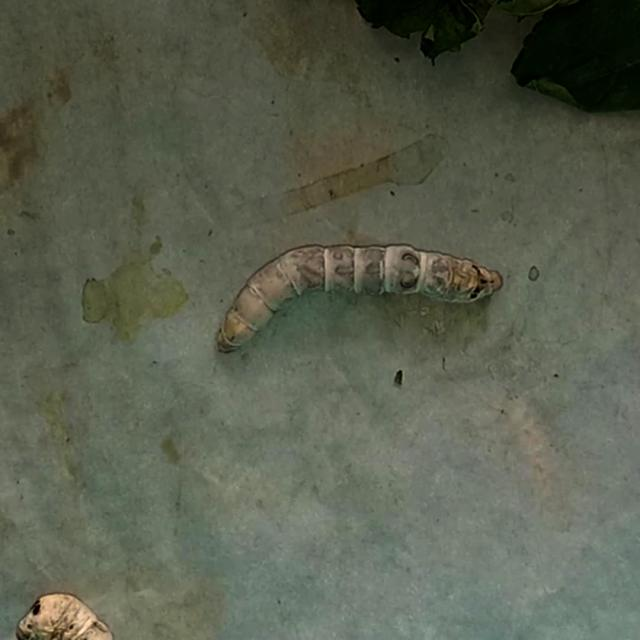Grasserie: (199, 206, 540, 372)
